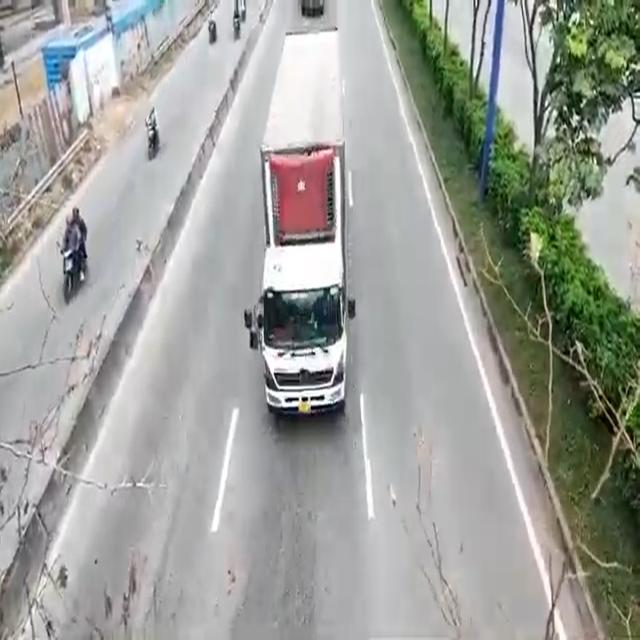motor: (56, 238, 91, 298), (144, 121, 160, 158), (207, 18, 220, 51)
truck: (268, 34, 351, 423)
